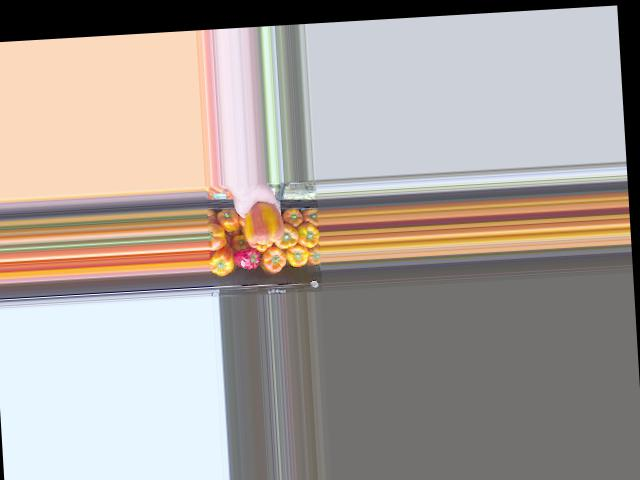bell_pepper: (214, 210, 242, 233)
